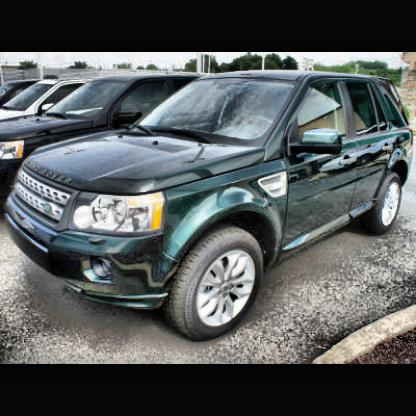Land Rover LR2 SUV 2012: (7, 73, 415, 344)
